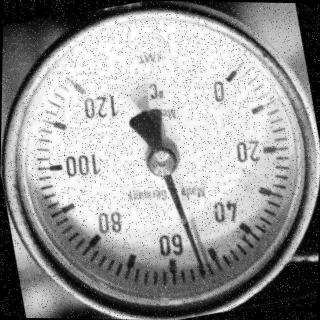gauge: (0, 0, 320, 320), (66, 73, 100, 109), (145, 146, 179, 178), (211, 63, 243, 95), (195, 263, 210, 283)
